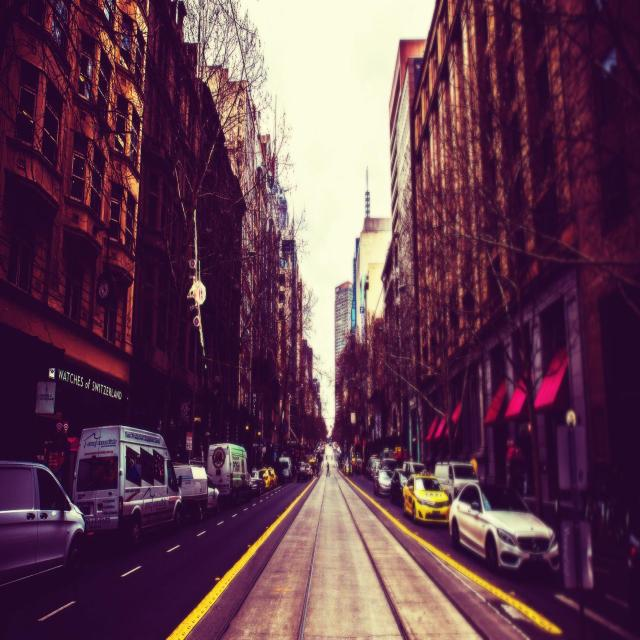airplane: (187, 209, 208, 369)
